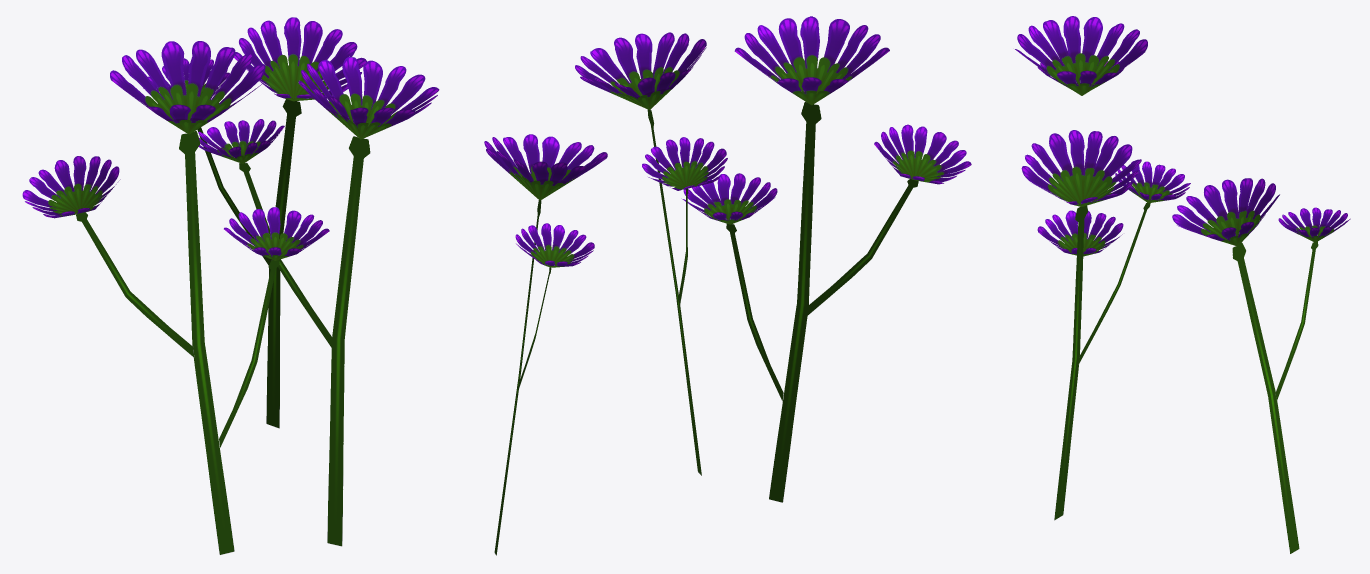
Rendered from Flower3B.glb.
The picture shows the model from 3 angles, left to right: view 1: azimuth 30°, elevation 25°; view 2: azimuth 150°, elevation 25°; view 3: azimuth 270°, elevation 25°; orthographic projection. The views are drawn at different scales.
Parts seen in each view (by area): view 1: Flower_10a; view 2: Flower_10a; view 3: Flower_10a.
Boxes of the visible parts, bbox=[...] form: Flower_10a: bbox=[22, 17, 439, 554]; Flower_10a: bbox=[484, 16, 971, 555]; Flower_10a: bbox=[1015, 16, 1350, 553].
Size of the model in its own units: 19.82 by 22.81 by 16.98.
Materials: 1 (1 with a texture image).
